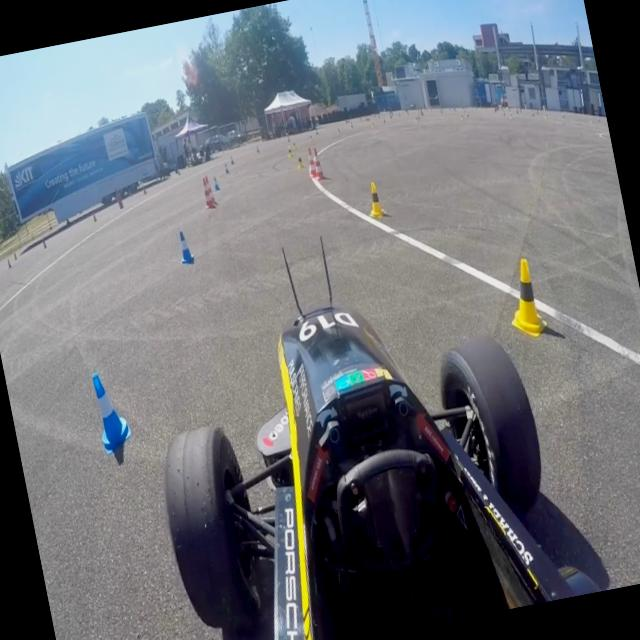blue_cone: (84, 368, 136, 454), (172, 228, 196, 267), (212, 176, 220, 192), (223, 162, 230, 178)
large_orange_cone: (309, 144, 326, 182), (199, 173, 215, 210), (203, 172, 217, 208), (305, 145, 318, 177)
yellow_cone: (495, 244, 549, 340), (363, 180, 388, 222), (294, 152, 306, 172), (286, 145, 293, 159)
